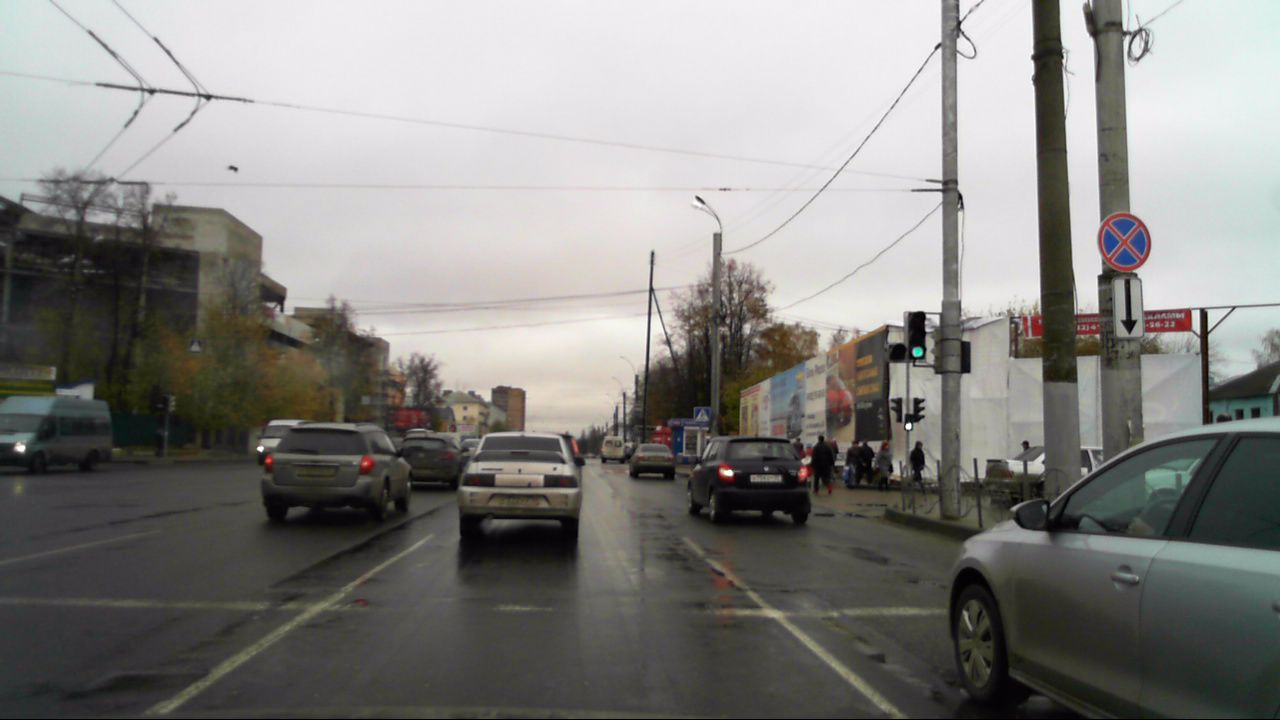No Parking: (1097, 211, 1152, 272)
